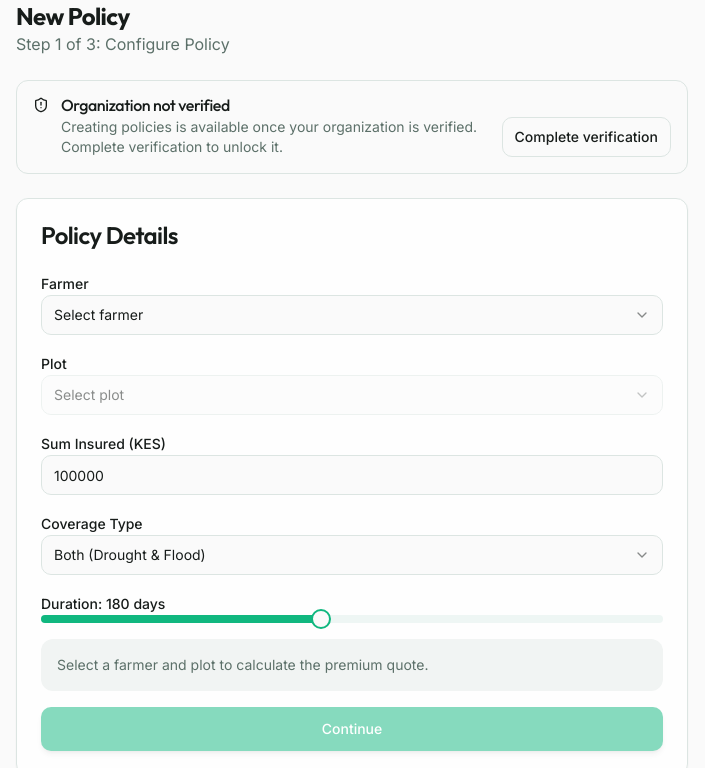
Test: NewPolicyPage and the catalogue › does not quote a coming-soon crop, says why, and blocks Continue
What coordinates should you click on to do the following:
click the dropdown labelled "Select farmer"
I would click on:
 (99, 314)
Its box is [41,295,663,335].
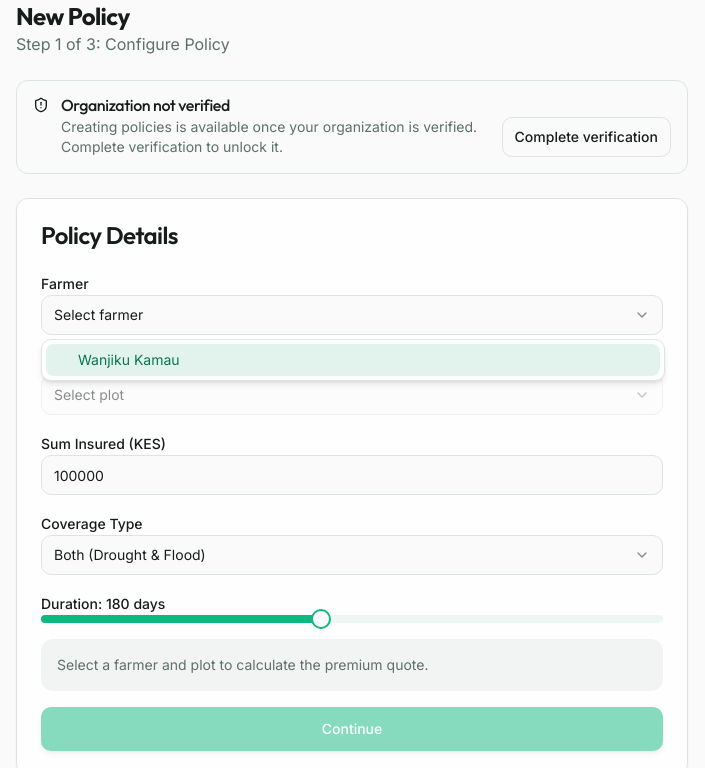
What coordinates should you click on to do the following:
click the option "Wanjiku Kamau"
I would click on:
 (104, 360)
Its box is [46,344,660,376].
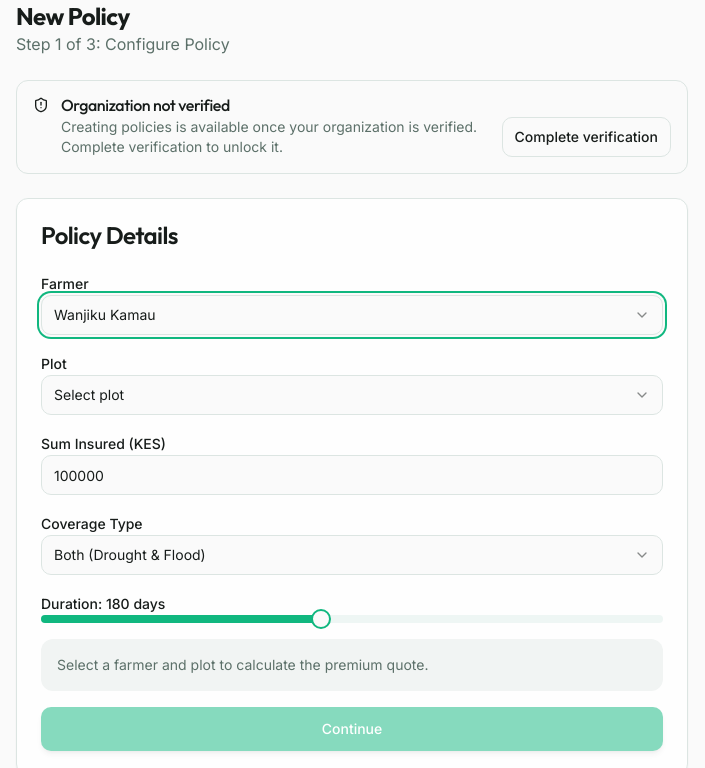
What coordinates should you click on to do the following:
click the dropdown labelled "Select plot"
I would click on:
 (89, 394)
Its box is [41,375,663,415].
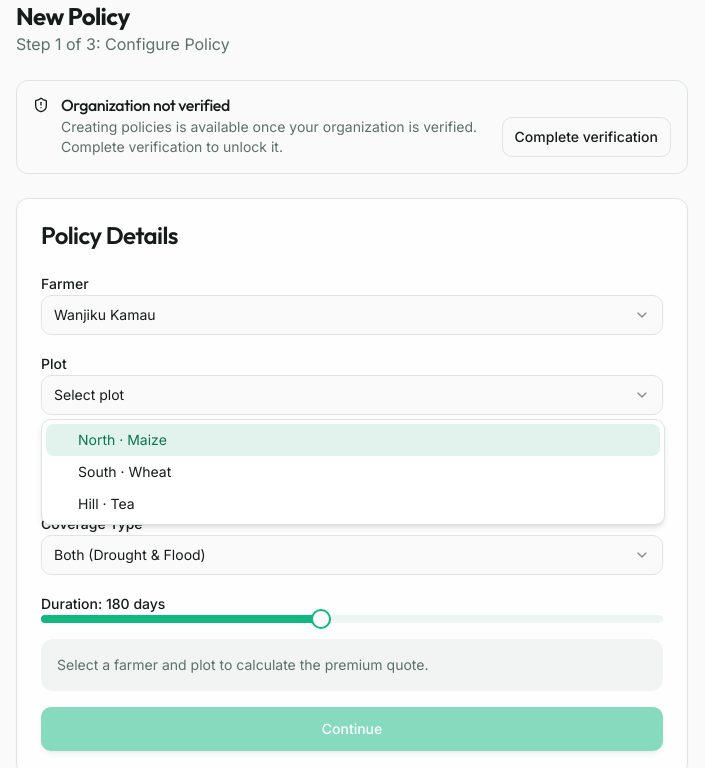
What coordinates should you click on to do the following:
click the option "South · Wheat"
I would click on:
 (125, 472)
Its box is [78,463,171,480].
(page scrolled)
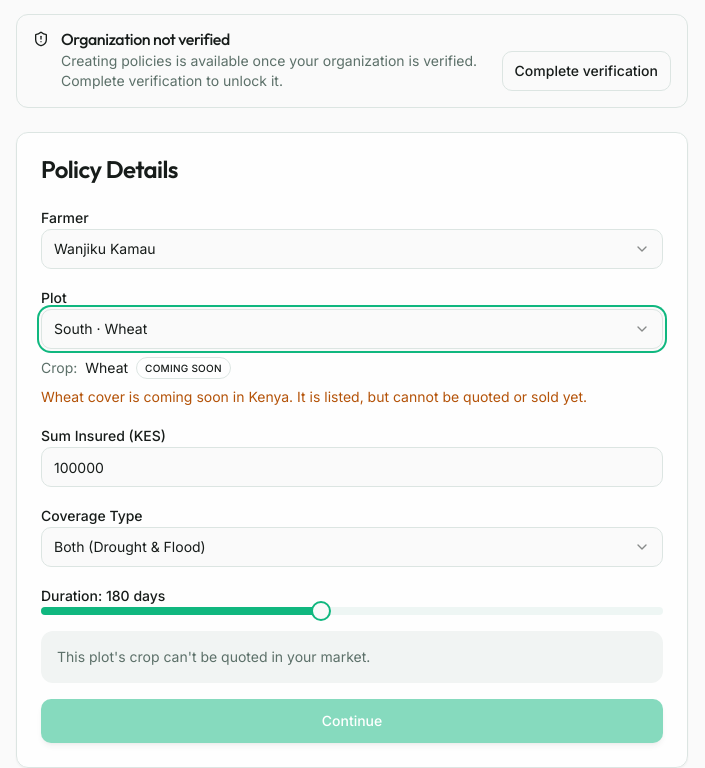
Expected: the button "Continue" is disabled, [41,699,663,743]
Now the text "Wheat cover is coming soon in Kenya" is shown, box [41,388,587,405]
